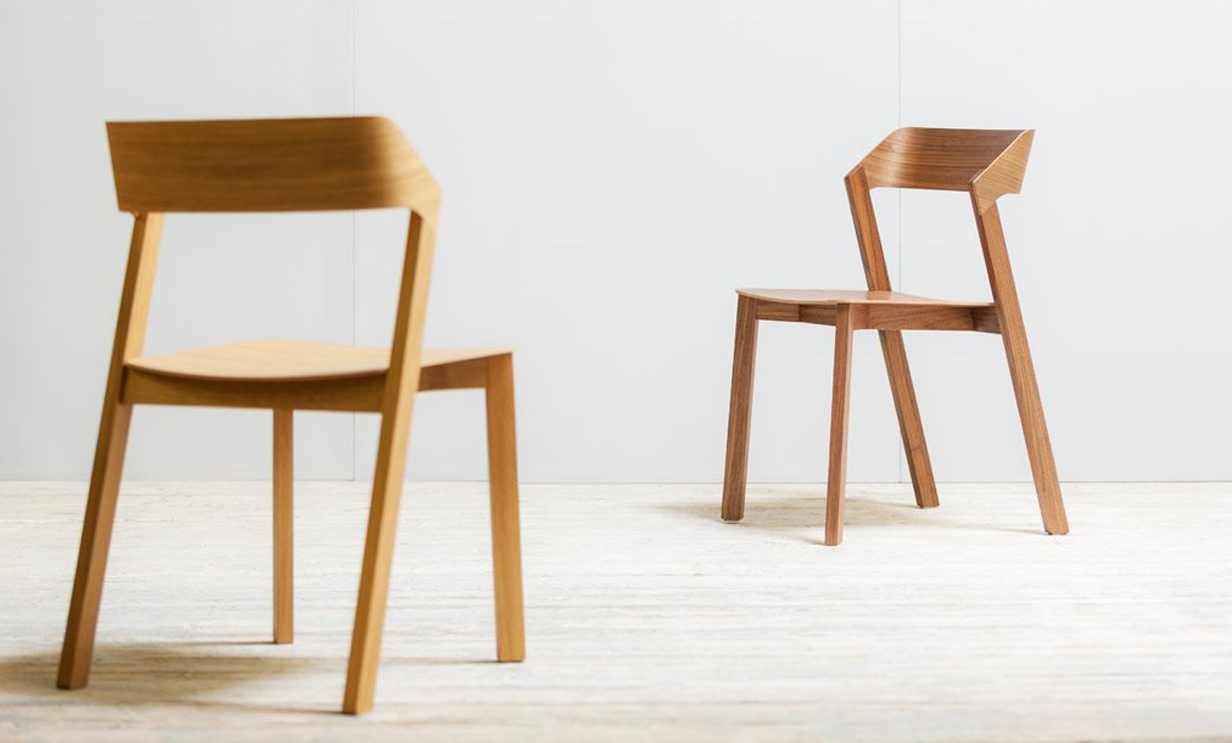chair: (49, 101, 551, 736), (706, 94, 1113, 570)
